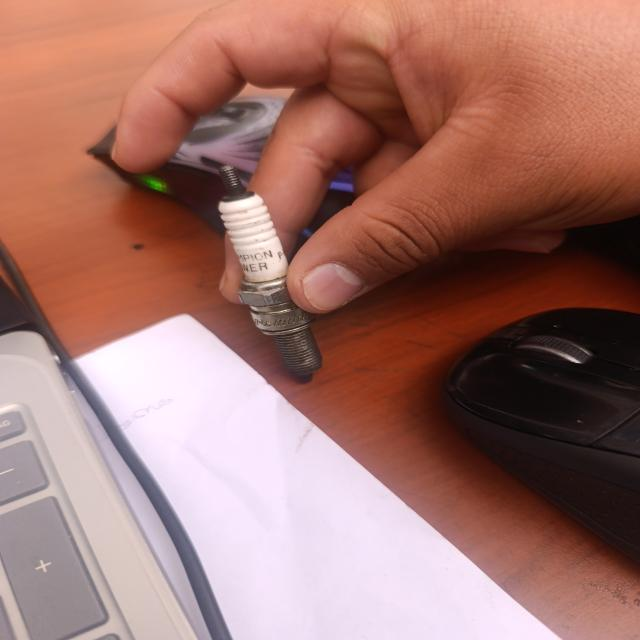bujia: (216, 163, 322, 380)
